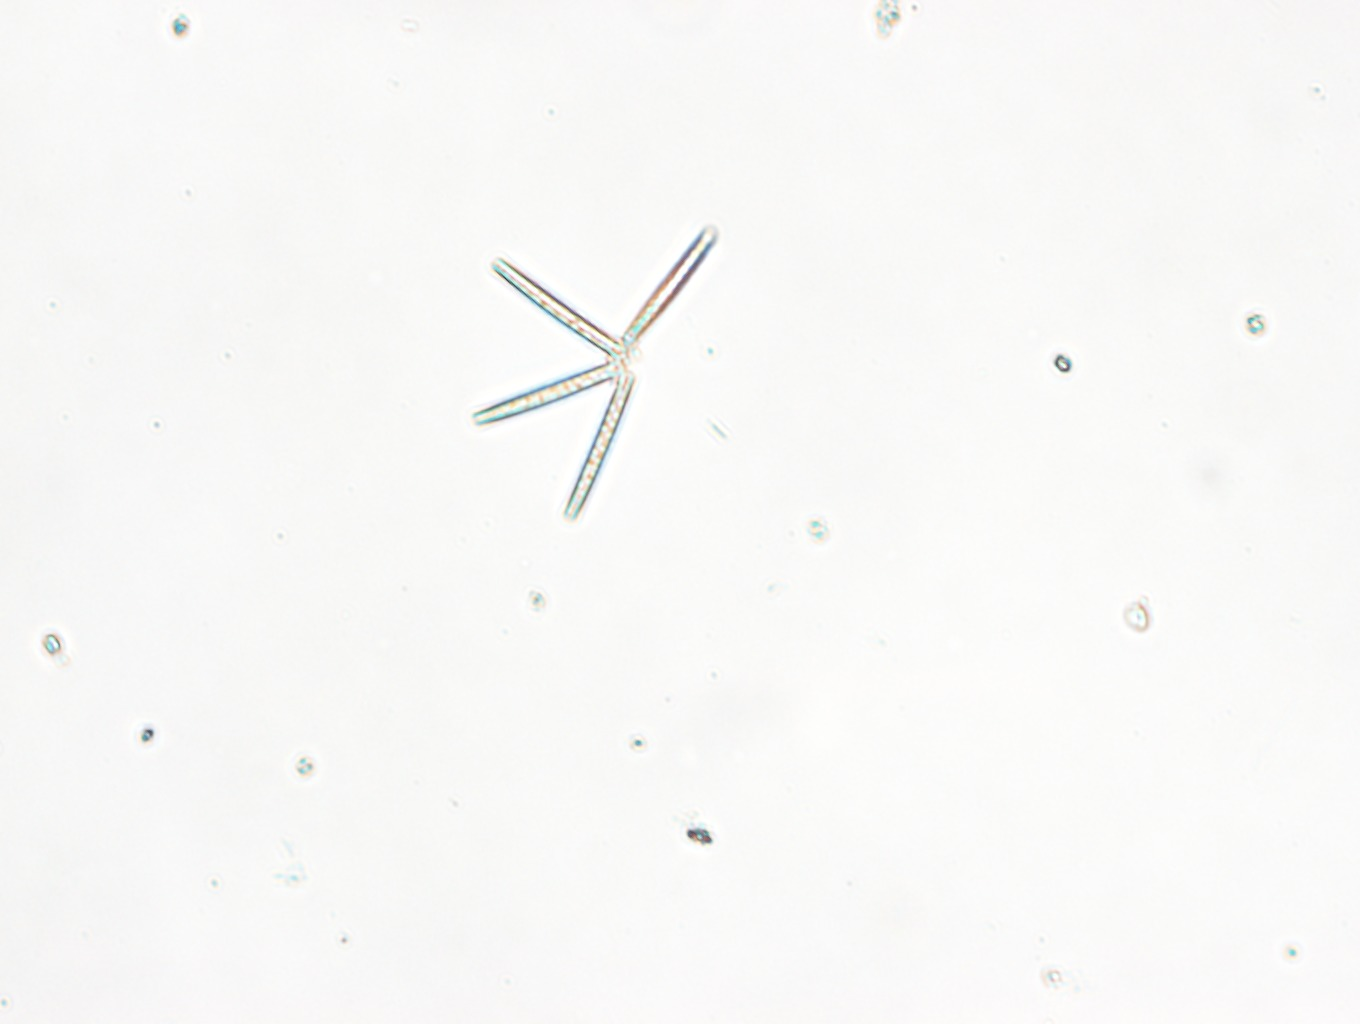thalassionema nitzschioides: (469, 222, 718, 523)
